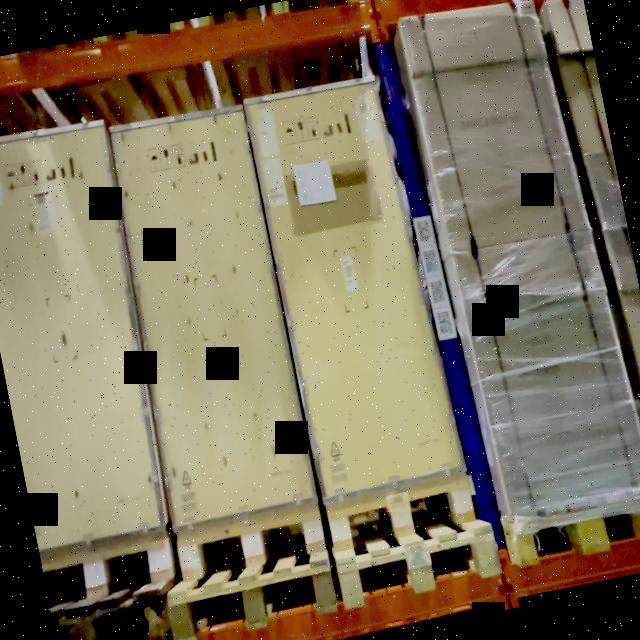box: (244, 77, 468, 500), (110, 106, 318, 533), (452, 231, 640, 514), (399, 0, 590, 252)
